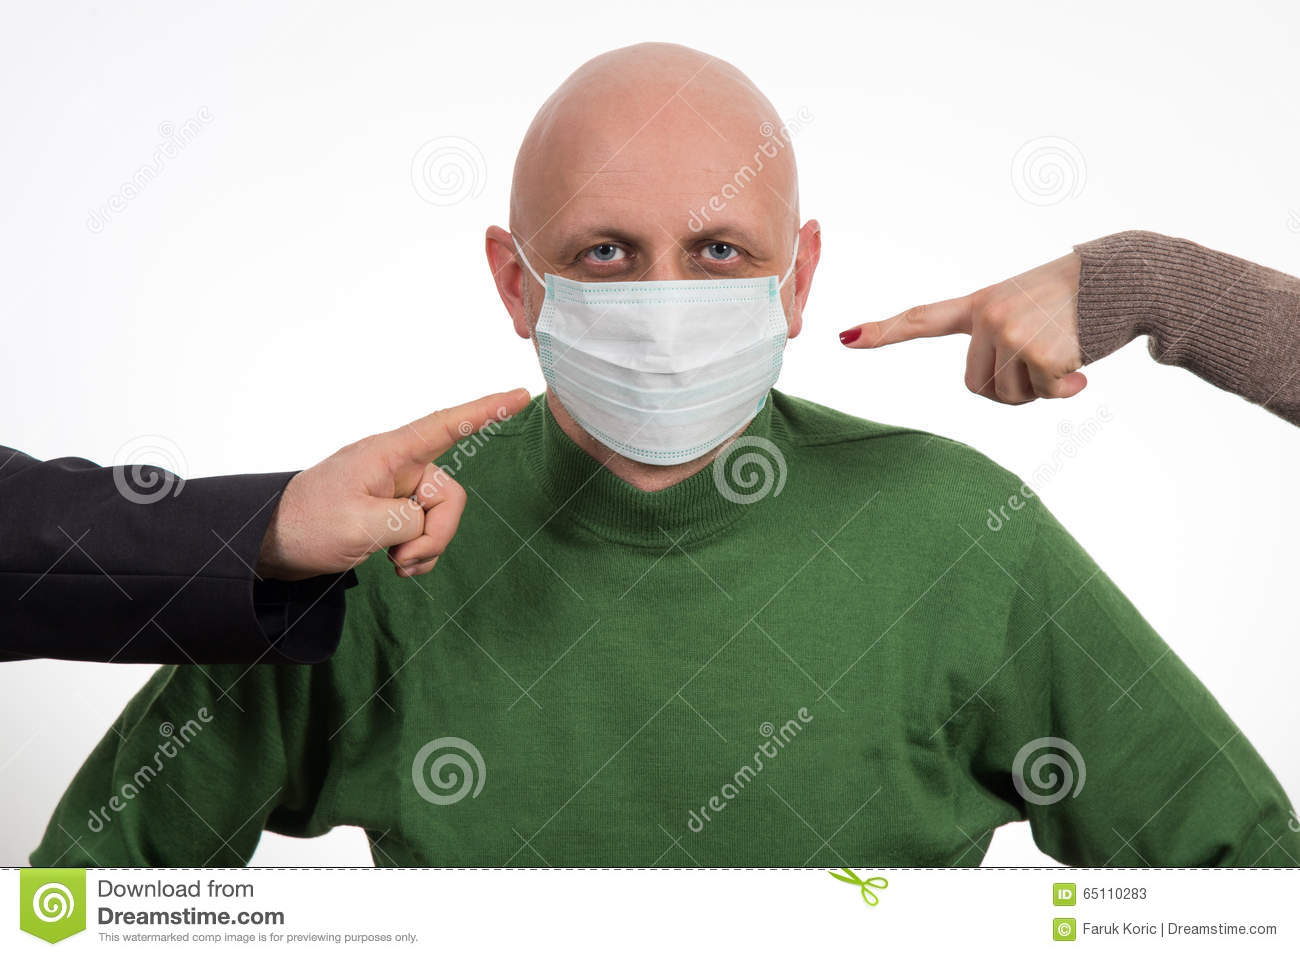mask: (538, 282, 786, 467)
